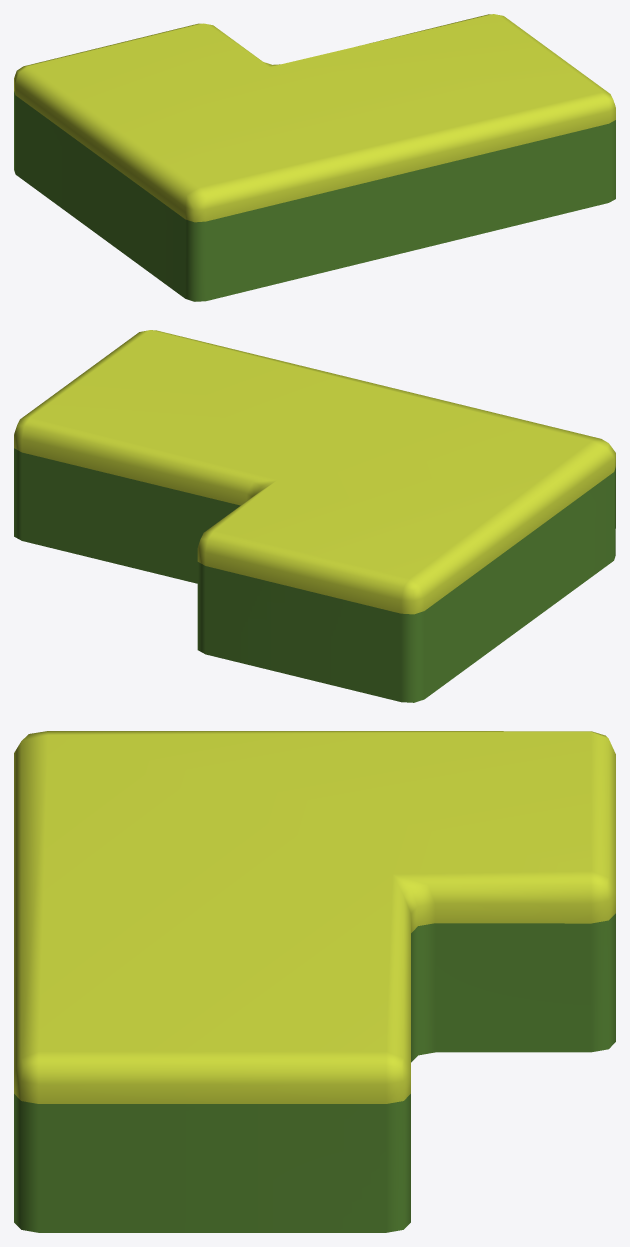
The picture shows the model from 3 angles, top to bottom: view 1: azimuth 30°, elevation 25°; view 2: azimuth 150°, elevation 25°; view 3: azimuth 270°, elevation 25°; orthographic projection. The views are drawn at different scales.
Parts seen in each view (by area): view 1: base_03; view 2: base_03; view 3: base_03.
Part boxes in pixels (<box>): base_03: <box>14,14,615,301</box>; base_03: <box>14,330,615,702</box>; base_03: <box>14,731,615,1232</box>.
Size of the model in its own units: 1597 by 374 by 1193.
